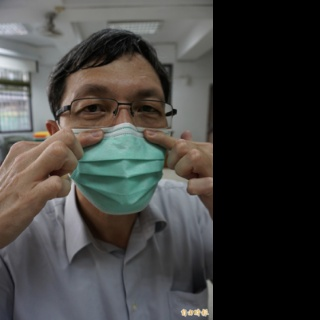with_mask: (55, 80, 171, 213)
